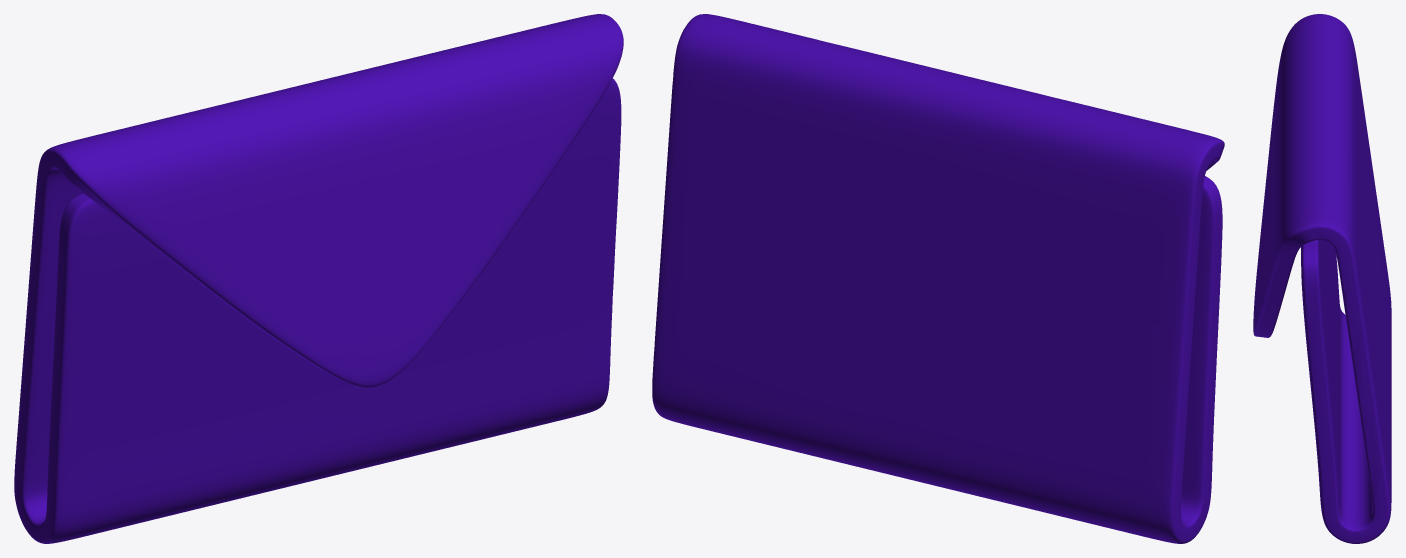
Rendered from message.glb.
The picture shows the model from 3 angles, left to right: view 1: azimuth 30°, elevation 25°; view 2: azimuth 150°, elevation 25°; view 3: azimuth 270°, elevation 25°; orthographic projection. The views are drawn at different scales.
Parts seen in each view (by area): view 1: Mail; view 2: Mail; view 3: Mail.
Boxes of the visible parts, x1,y1,x2,y2 form: Mail: (14, 14, 623, 543); Mail: (652, 14, 1224, 543); Mail: (1253, 14, 1391, 543).
Size of the model in its own units: 1.96 by 1.38 by 0.5383.
